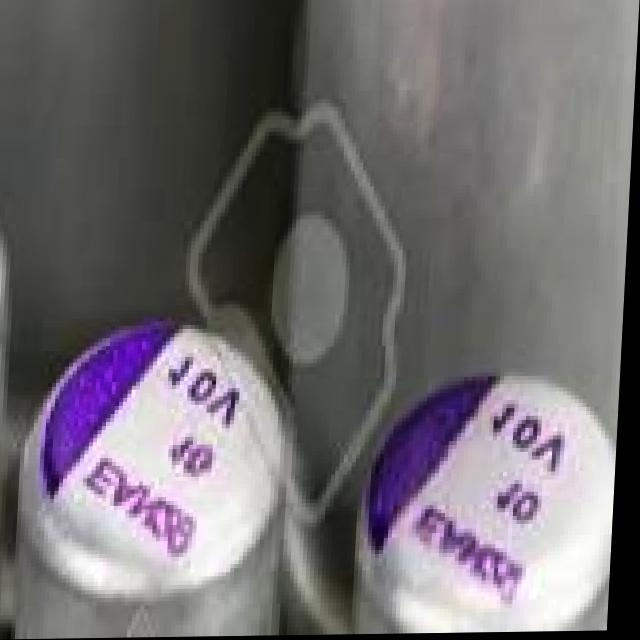capacitor: (278, 0, 640, 429), (10, 276, 309, 638), (350, 345, 626, 636), (0, 0, 304, 176), (0, 116, 31, 496)
